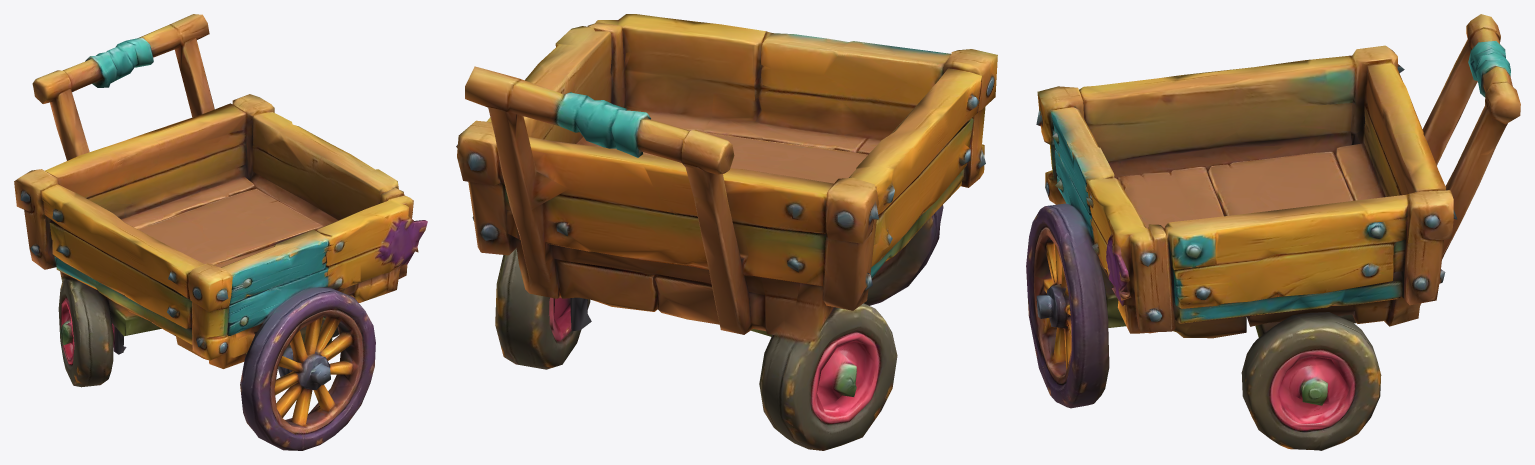
The model's file is powerup-jugaad-thela.glb.
The picture shows the model from 3 angles, left to right: view 1: azimuth 30°, elevation 25°; view 2: azimuth 150°, elevation 25°; view 3: azimuth 270°, elevation 25°; orthographic projection. The views are drawn at different scales.
Parts seen in each view (by area): view 1: tripo_node_c2c80756-0019-4c26-9bb5-9e8d2159ceca; view 2: tripo_node_c2c80756-0019-4c26-9bb5-9e8d2159ceca; view 3: tripo_node_c2c80756-0019-4c26-9bb5-9e8d2159ceca.
Part boxes in pixels (<box>): tripo_node_c2c80756-0019-4c26-9bb5-9e8d2159ceca: <box>14,14,427,450</box>; tripo_node_c2c80756-0019-4c26-9bb5-9e8d2159ceca: <box>456,14,997,450</box>; tripo_node_c2c80756-0019-4c26-9bb5-9e8d2159ceca: <box>1026,14,1520,450</box>.
Size of the model in its own units: 0.8715 by 0.7701 by 1.
Materials: 1 (1 with a texture image).
